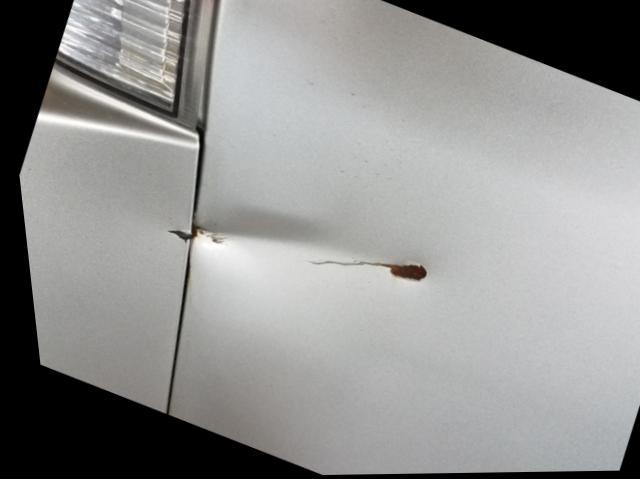dent: (188, 203, 326, 259)
scratch: (289, 254, 428, 285)
